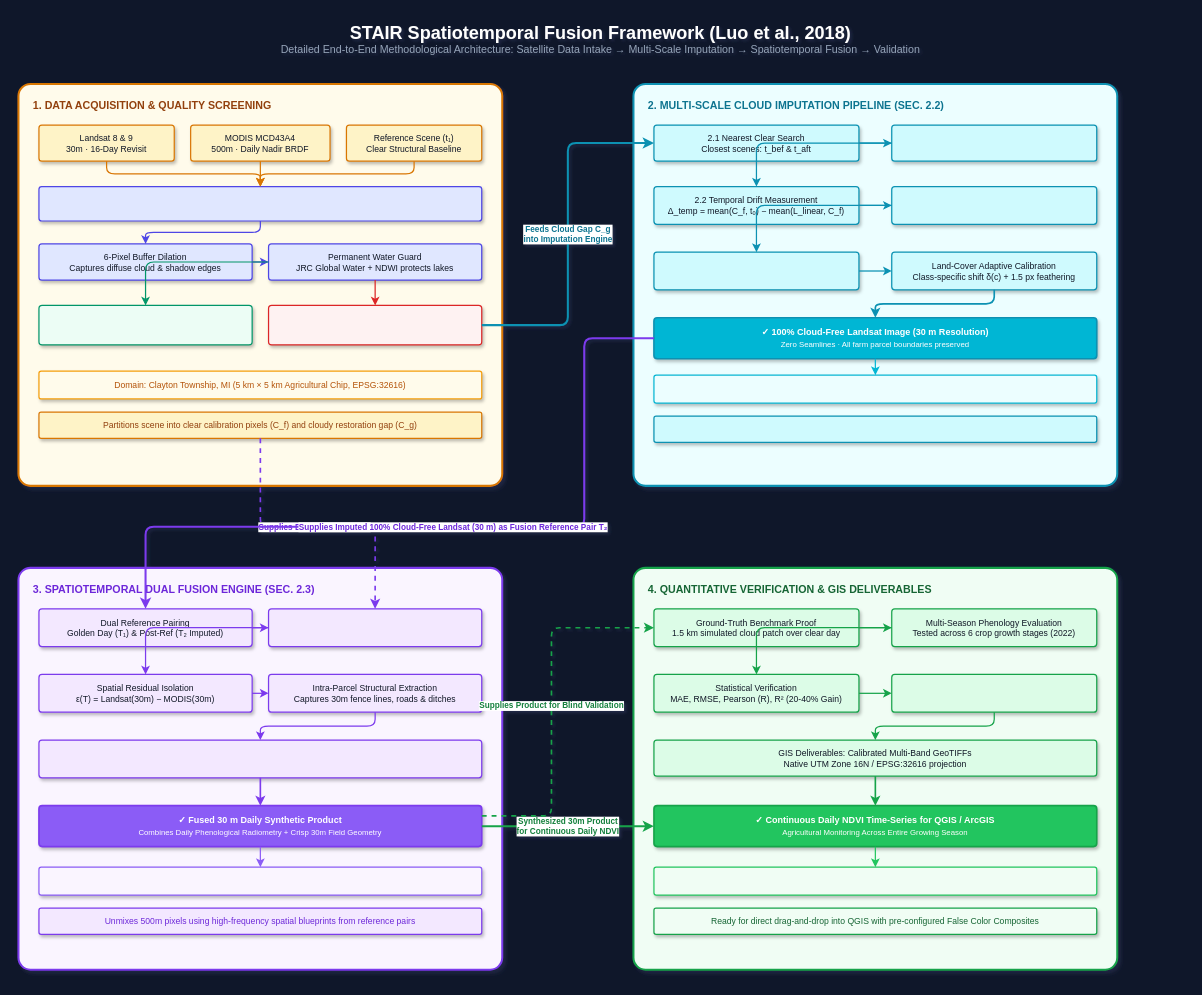
Some shapes in this 1202 by 995 pixel diagram are drawn without their labels. The shapes that lost their labels are listed below. From the top down, each one's centre as x and y in pixels, then its label:
At point 994,144: "Temporal Linear Interpolation L_linear = R(t_bef) + w·[R(t_aft) − R(t_bef)]".
At point 261,204: "Pixel Quality Screening QA_PIXEL bitmasks: cloud, shadow, cirrus & dilated flags".
At point 994,206: "Global Spatial Drift Offset L_global = L_linear + (Δ_temp + Δ_spatial)".
At point 757,272: "2.3 Weka K-Means Clustering (k = 4) groups crop types on clear day t₁".
At point 146,326: "Clear Surface Mask (C_f) Valid unclouded calibration pixels".
At point 375,326: "Cloud Gap Mask (C_g) Missing cloudy pixels to restore".
At point 876,390: "Parallel MODIS Imputation: Daily 500m MODIS also made 100% cloud-free".
At point 876,430: "Resolves atmospheric drift and intra-class phenological differences seamlessly".
At point 375,629: "Scale & Grid Alignment Resamples 500m MODIS to 30m Landsat grid".
At point 994,694: "Absolute Error Heatmap (NIR) Near-zero error (< 0.02) over farm parcels".
At point 261,760: "Proximity-Weighted Daily Synthesis I_hat(t_p) = MODIS(t_p) + w₁·ε(T₁) + w₂·ε(T₂)".
At point 261,882: "Physical reflectance clamped to [0.0, 1.0] · Cloud-free on any calendar day".
At point 876,882: "Status: Operational · Tested on 5km x 5km Contiguous Landscape & Farm Zooms".
